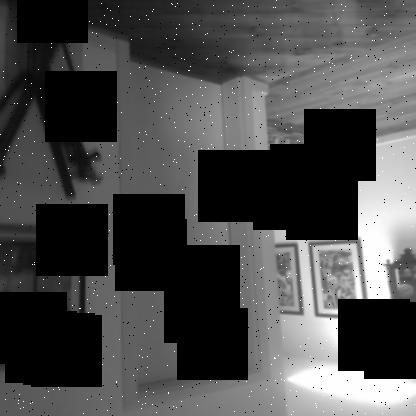Porte: (117, 35, 273, 411)
